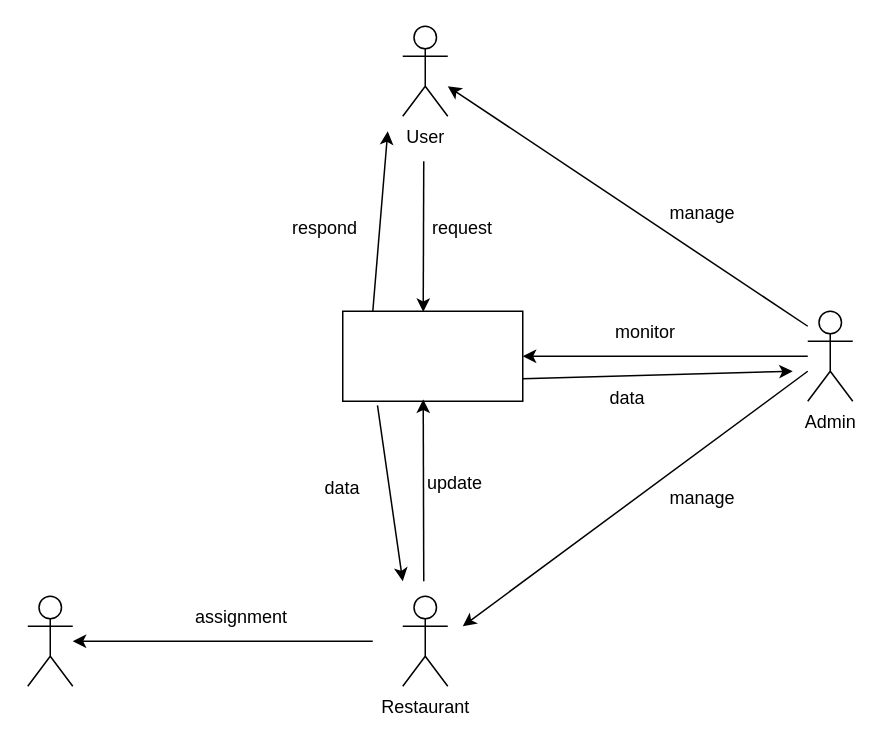
The diagram is 882 pixels wide and 744 high, and some of its shapes have lost their labels. Each missing label, with the centre of its shape:
Driver: point (49, 640)
Order Restaurant Food: point (432, 355)
